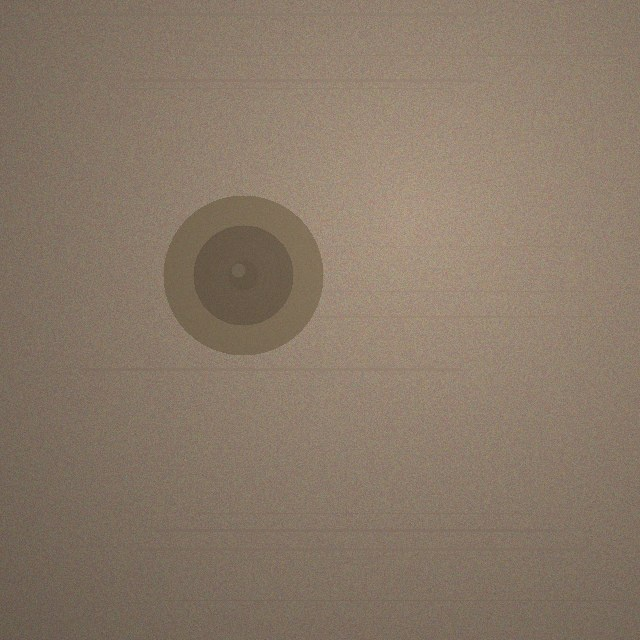good: (163, 195, 323, 355)
